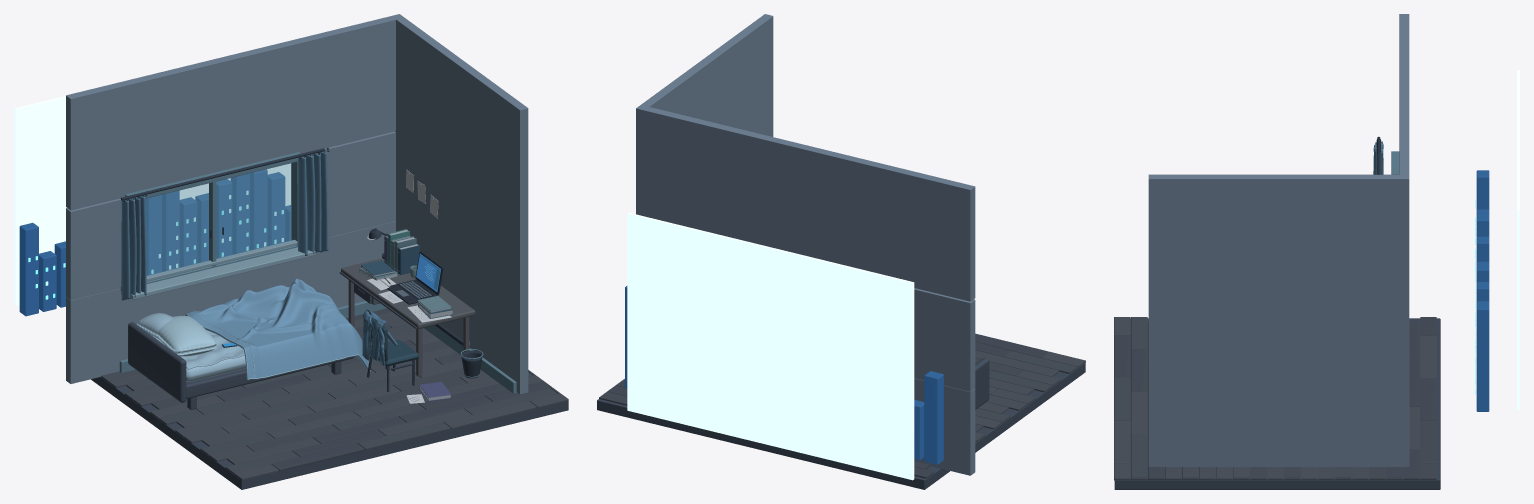
The model's file is room.glb.
The picture shows the model from 3 angles, left to right: view 1: azimuth 30°, elevation 25°; view 2: azimuth 150°, elevation 25°; view 3: azimuth 270°, elevation 25°; orthographic projection.
Parts seen in each view (by area): view 1: Back wall · above window, Right wall, Back wall · below window, Window glass, Duvet · hand-shaped rumpled surface, Beyond window · atmospheric backdrop, Back wall · right pier, Floor foundation, Back wall · left pier, Curtain · right, Bed · low headboard, Curtain · left (+51 smaller); view 2: Beyond window · atmospheric backdrop, Back wall · above window, Right wall, Back wall · left pier, Floor foundation, Back wall · below window, Distant skyline 00, Floor plank 02-00, Bed · low headboard, Distant skyline 01, Floor plank 00-01, Floor plank 01-00 (+1 smaller); view 3: Right wall, Floor foundation, Back wall · above window, Distant skyline 17, Beyond window · atmospheric backdrop, Floor plank 00-01, Floor plank 00-02, Floor plank 00-03, Floor plank 01-01, Floor plank 01-02, Floor plank 01-03, Floor plank 18-01 (+7 smaller).
Boxes of the visible parts, x1=… form: Back wall · above window: x1=66, y1=16, x2=395, y2=210; Right wall: x1=392, y1=14, x2=528, y2=394; Back wall · below window: x1=66, y1=221, x2=395, y2=383; Window glass: x1=145, y1=163, x2=291, y2=275; Duvet · hand-shaped rumpled surface: x1=186, y1=278, x2=368, y2=379; Beyond window · atmospheric backdrop: x1=14, y1=96, x2=290, y2=305; Back wall · right pier: x1=303, y1=131, x2=395, y2=237; Floor foundation: x1=91, y1=377, x2=568, y2=489; Back wall · left pier: x1=66, y1=198, x2=121, y2=300; Curtain · right: x1=297, y1=149, x2=328, y2=255; Bed · low headboard: x1=128, y1=322, x2=186, y2=402; Curtain · left: x1=121, y1=195, x2=146, y2=300; Beyond window · atmospheric backdrop: x1=627, y1=212, x2=914, y2=480; Back wall · above window: x1=641, y1=107, x2=975, y2=301; Right wall: x1=636, y1=14, x2=773, y2=216; Back wall · left pier: x1=914, y1=288, x2=975, y2=391; Floor foundation: x1=597, y1=362, x2=1085, y2=489; Back wall · below window: x1=914, y1=378, x2=975, y2=475; Distant skyline 00: x1=924, y1=371, x2=943, y2=464; Floor plank 02-00: x1=975, y1=350, x2=1059, y2=376; Bed · low headboard: x1=975, y1=358, x2=989, y2=409; Distant skyline 01: x1=914, y1=399, x2=924, y2=460; Floor plank 00-01: x1=975, y1=333, x2=1048, y2=357; Floor plank 01-00: x1=1003, y1=350, x2=1077, y2=373; Right wall: x1=1148, y1=174, x2=1409, y2=467; Floor foundation: x1=1114, y1=318, x2=1440, y2=489; Back wall · above window: x1=1399, y1=14, x2=1409, y2=176; Distant skyline 17: x1=1476, y1=302, x2=1489, y2=411; Beyond window · atmospheric backdrop: x1=1517, y1=70, x2=1519, y2=409; Floor plank 00-01: x1=1114, y1=335, x2=1130, y2=377; Floor plank 00-02: x1=1114, y1=378, x2=1130, y2=420; Floor plank 00-03: x1=1114, y1=420, x2=1130, y2=462; Floor plank 01-01: x1=1131, y1=350, x2=1147, y2=392; Floor plank 01-02: x1=1131, y1=392, x2=1147, y2=434; Floor plank 01-03: x1=1131, y1=435, x2=1147, y2=477; Floor plank 18-01: x1=1420, y1=335, x2=1436, y2=377.
Size of the model in its own units: 6.02 by 4.66 by 5.73.
